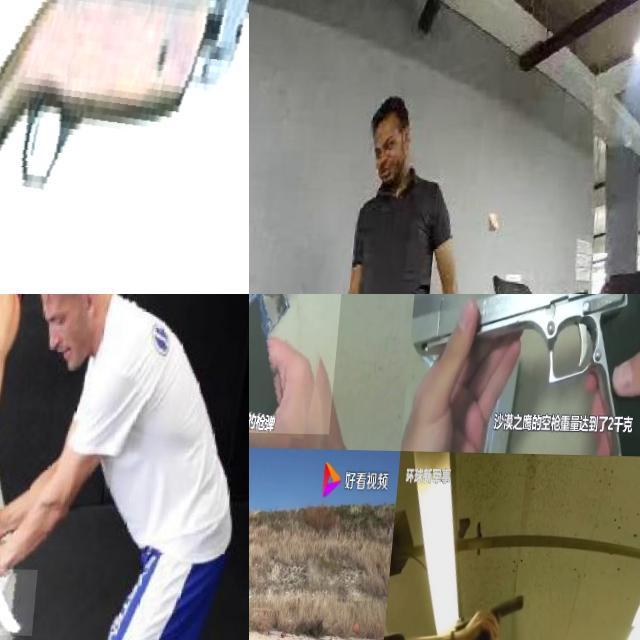-: (0, 566, 44, 634)
gun-knife-thesis - v11 Yolov5 augmented: (0, 0, 249, 294), (408, 294, 640, 453), (249, 294, 371, 440), (466, 584, 533, 640), (249, 501, 265, 572)
